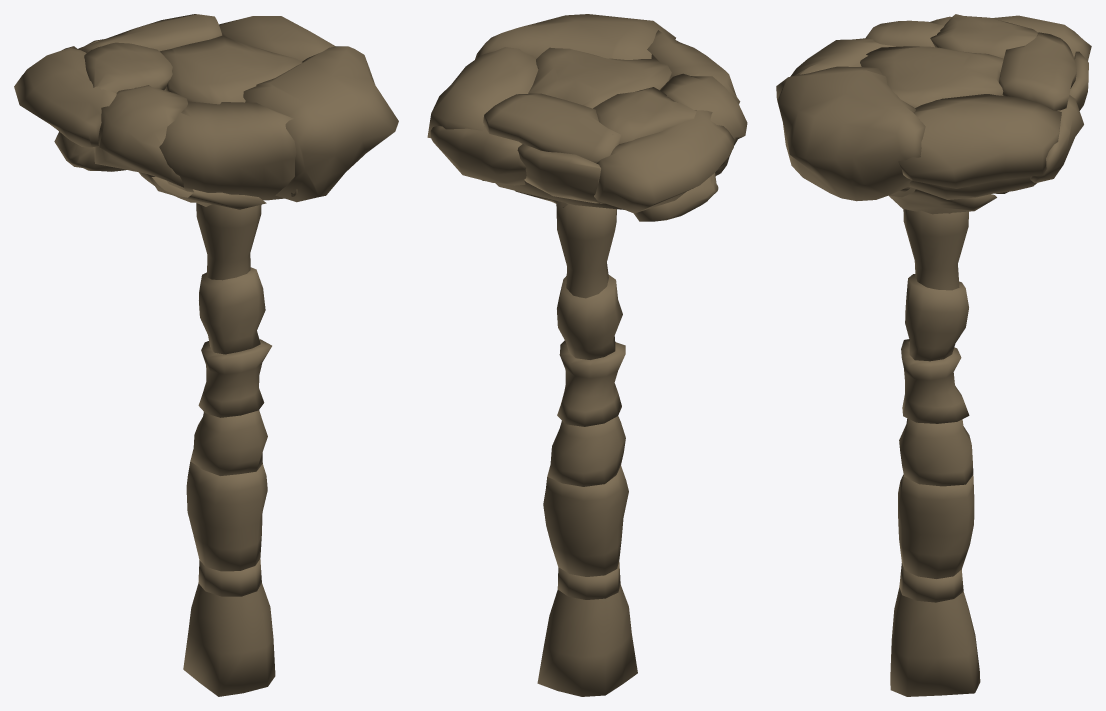
The model's file is 10mtowerconjoined.fbx.
3 renders of one model, left to right at view 1: azimuth 30°, elevation 25°; view 2: azimuth 150°, elevation 25°; view 3: azimuth 270°, elevation 25°, orthographic.
Visible parts, largest first — view 1: Cube_contours.053; view 2: Cube_contours.053; view 3: Cube_contours.053.
Boxes of the visible parts, x1,y1,x2,y2 form: Cube_contours.053: [14, 14, 398, 696]; Cube_contours.053: [427, 14, 747, 696]; Cube_contours.053: [776, 14, 1091, 696].
Bounding box in the file's own units: 636 × 1296 × 600.
